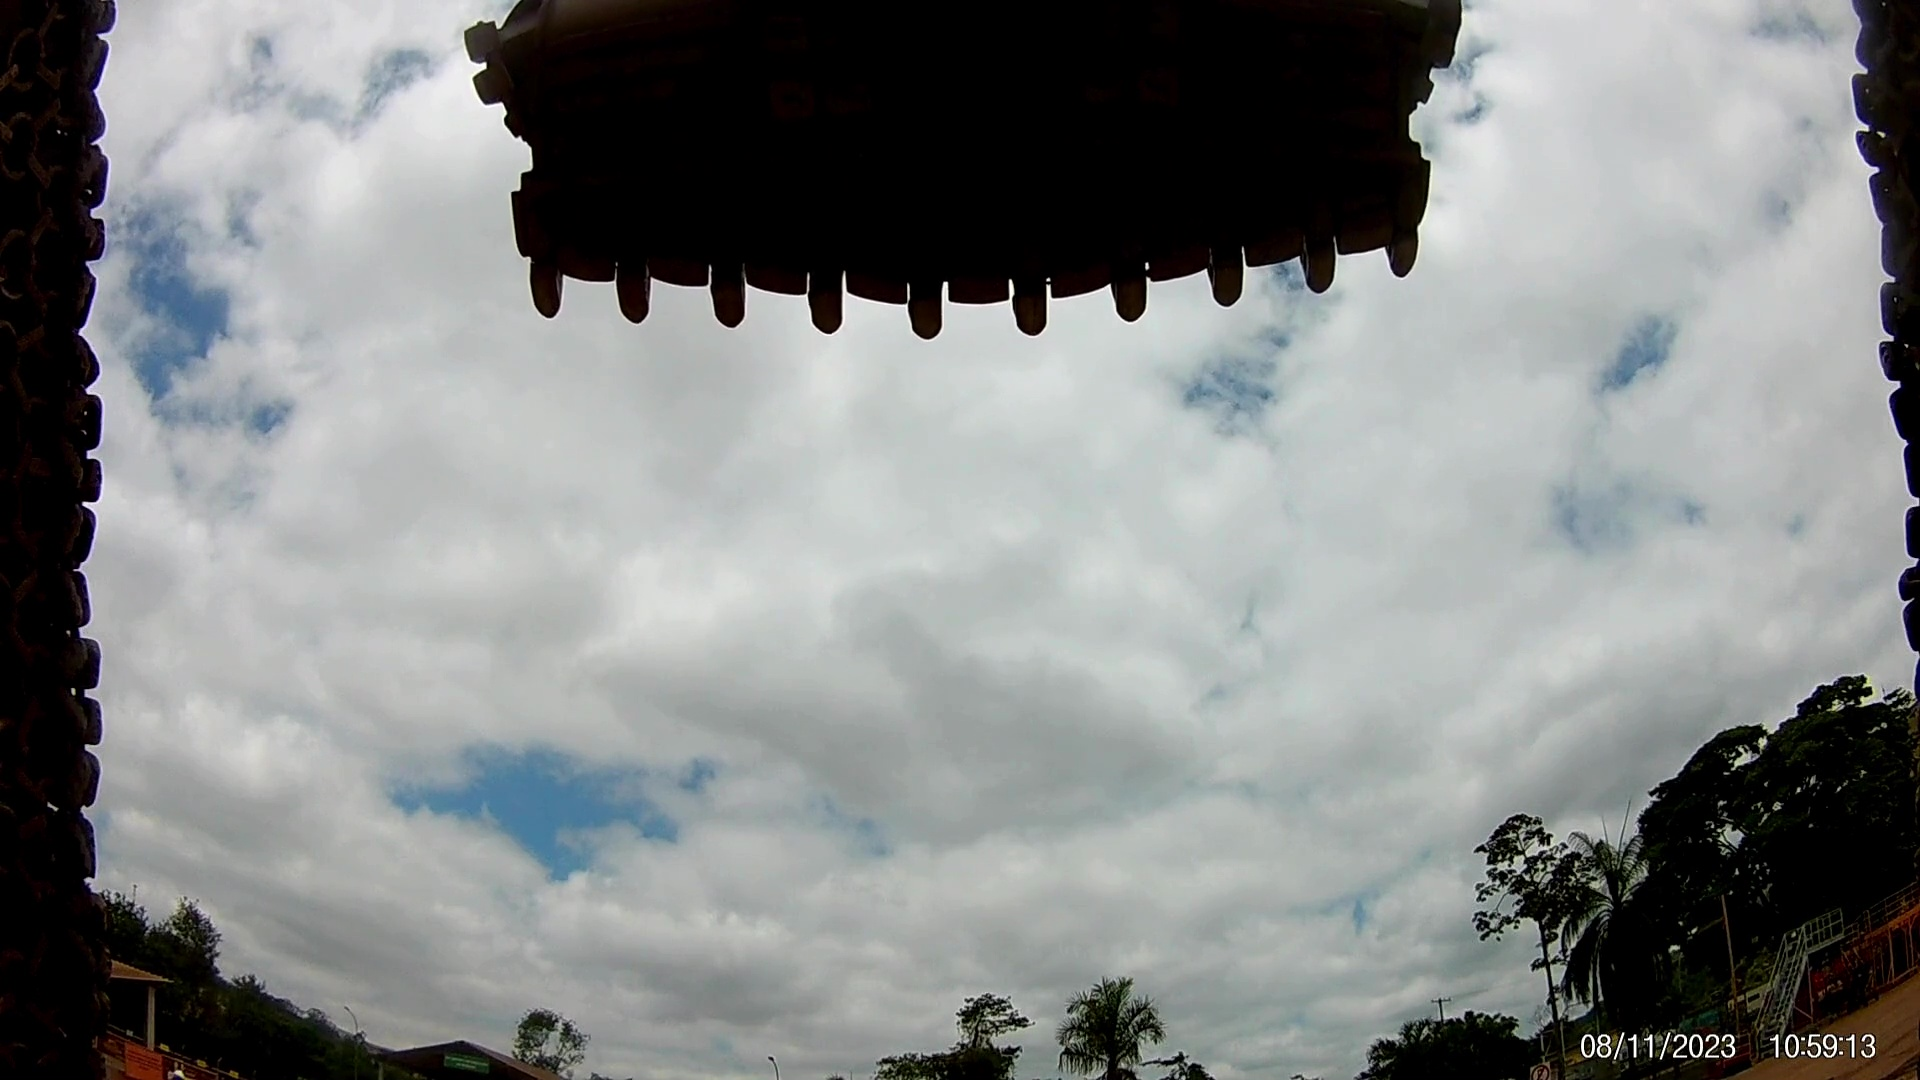FPS: (1118, 210, 1242, 280), (1112, 310, 1232, 376), (1097, 400, 1216, 465), (1077, 667, 1178, 738), (1127, 135, 1275, 179), (1077, 582, 1168, 653), (1077, 484, 1175, 549), (1068, 750, 1168, 800), (1104, 876, 1168, 948), (1077, 829, 1175, 872)
